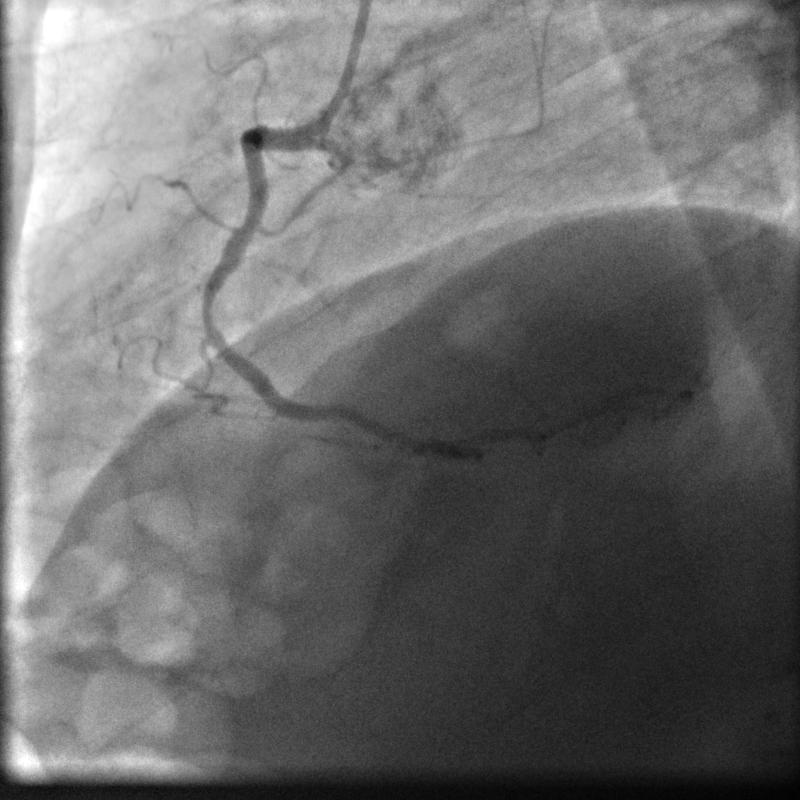Stenosis: (199, 301, 219, 328)
